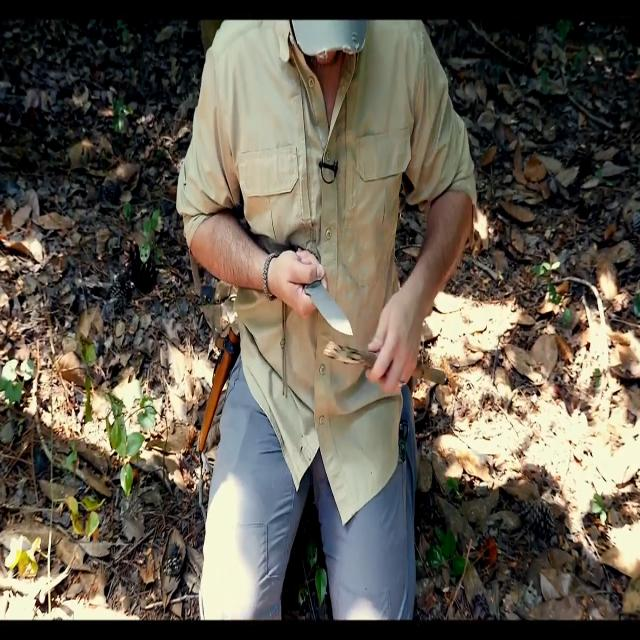knife: (304, 272, 362, 355)
